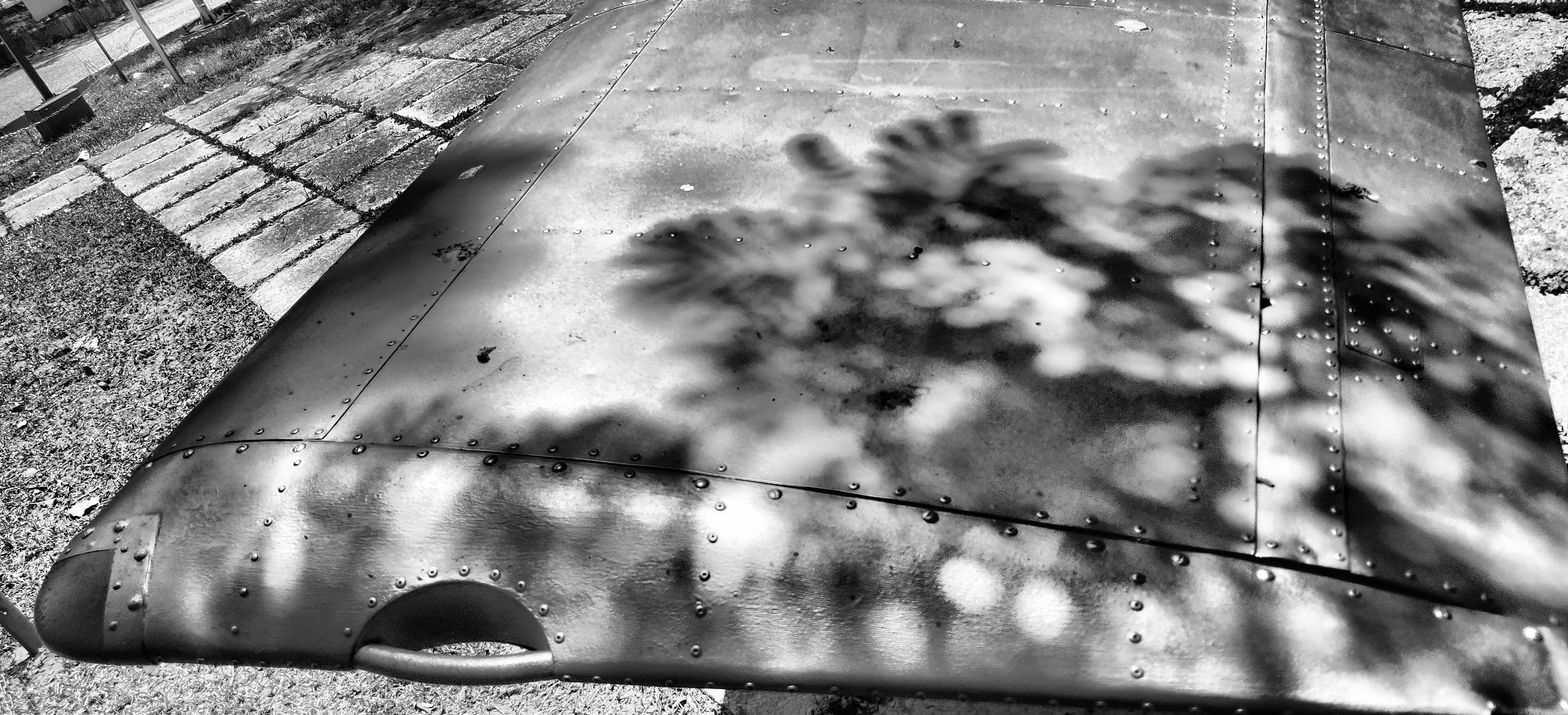missing-head: (379, 355, 384, 360), (622, 89, 627, 93), (581, 90, 586, 94), (423, 303, 427, 308), (357, 384, 362, 388), (331, 414, 336, 418), (560, 139, 564, 143), (518, 189, 522, 193), (443, 280, 447, 284), (573, 123, 576, 128), (401, 329, 406, 332), (608, 82, 611, 86), (533, 172, 537, 175), (503, 207, 507, 210), (451, 269, 455, 272), (637, 46, 641, 49), (585, 110, 588, 113), (547, 156, 550, 158), (628, 58, 631, 60)
